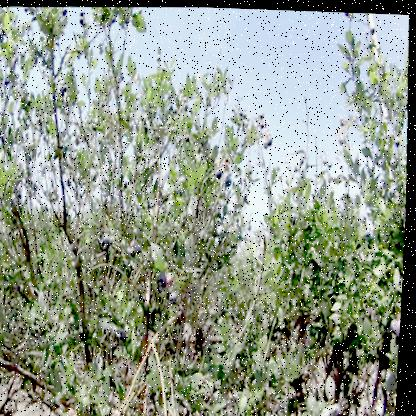intermediate: (170, 269, 180, 288), (72, 404, 87, 416)
mature: (396, 312, 404, 341), (171, 290, 184, 305), (106, 228, 116, 244)
young: (1, 138, 6, 152)
